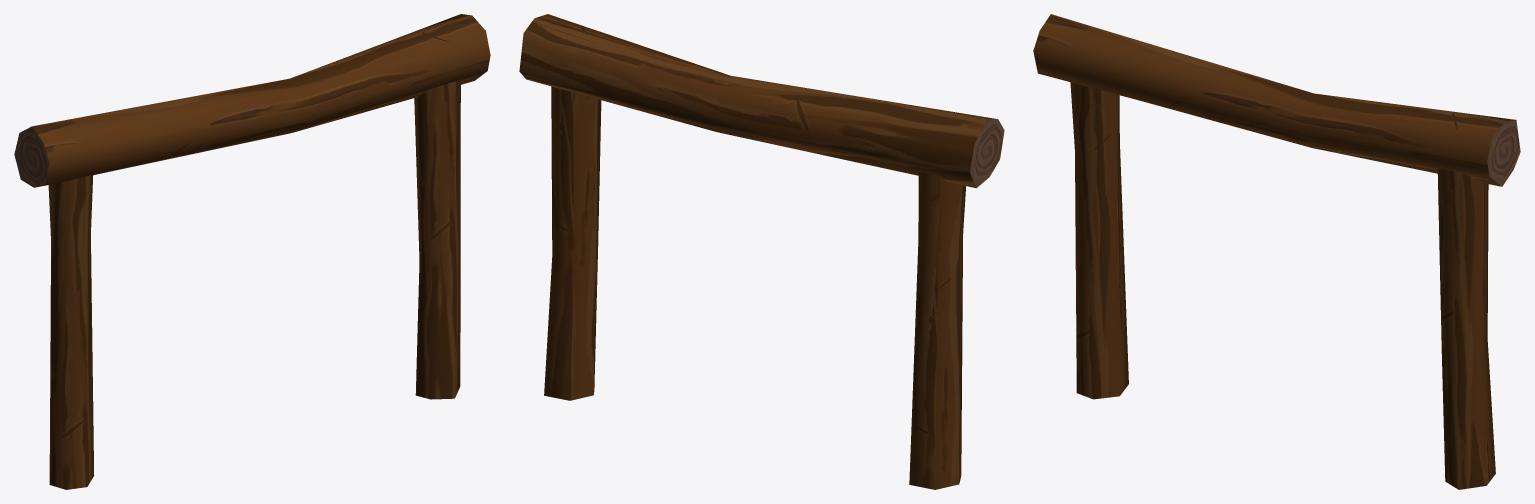
File: SM_PROP_horsestation_battle_01.fbx
The picture shows the model from 3 angles, left to right: view 1: azimuth 30°, elevation 25°; view 2: azimuth 150°, elevation 25°; view 3: azimuth 330°, elevation 25°; orthographic projection.
Visible parts, largest first — view 1: SM_PROP_horsestation_battle_01; view 2: SM_PROP_horsestation_battle_01; view 3: SM_PROP_horsestation_battle_01.
Part boxes in pixels (x1,y1,x2,y2): SM_PROP_horsestation_battle_01: [14, 14, 490, 489]; SM_PROP_horsestation_battle_01: [519, 14, 1004, 489]; SM_PROP_horsestation_battle_01: [1033, 14, 1520, 489].
Size of the model in its own units: 133 by 104 by 20.46.
